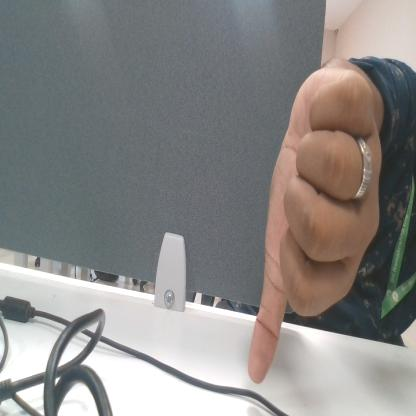Thumbs Down: (240, 32, 384, 390)
